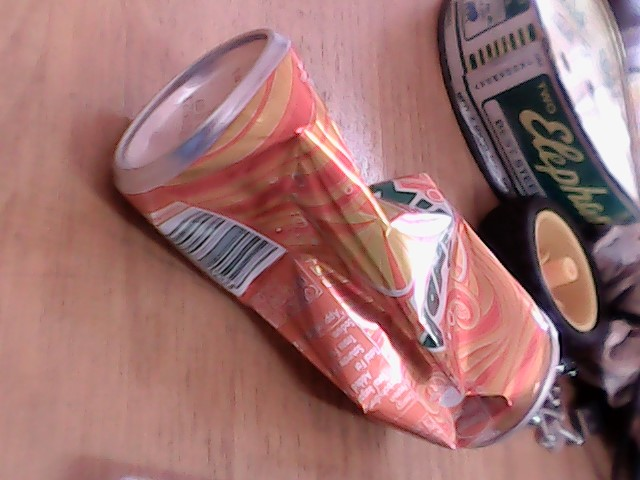Metal: (112, 151, 503, 431)
